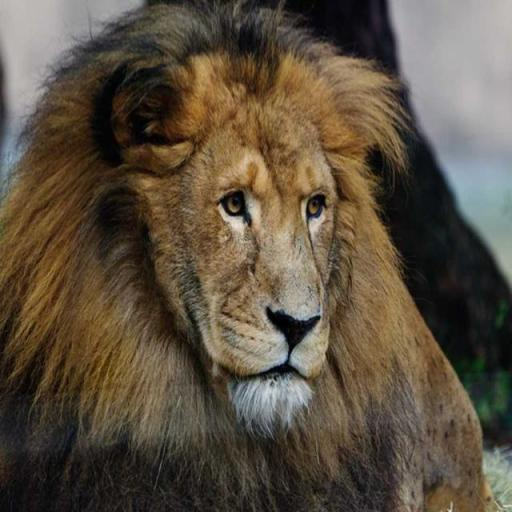Lion: (0, 0, 501, 510)
